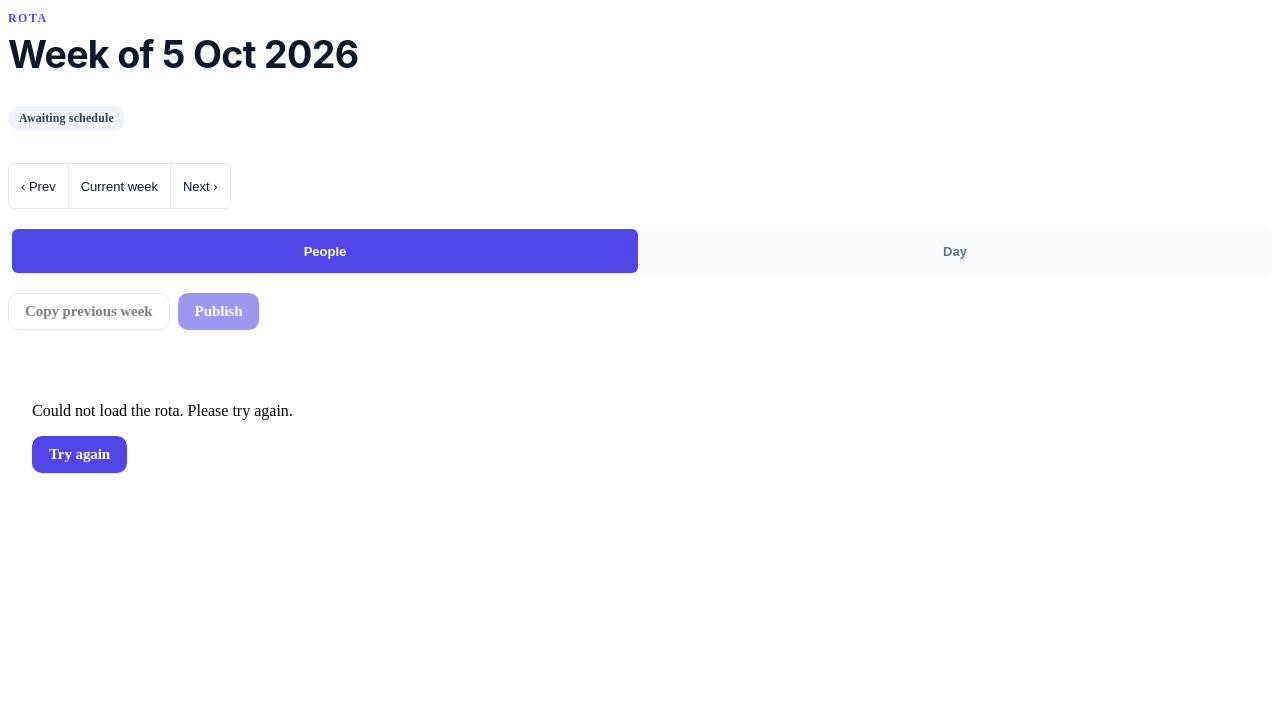
Test: shows retry instead of partial/empty data when query 0 fails
Expected: the message "Could not load the rota. Please try again. Try again" is shown, x1=32 y1=402 x2=293 y2=473
Expected: the heading "Week of 5 Oct 2026" is shown, x1=8 y1=32 x2=358 y2=77
Click the button "Try again": (80, 455) x1=32 y1=436 x2=127 y2=473
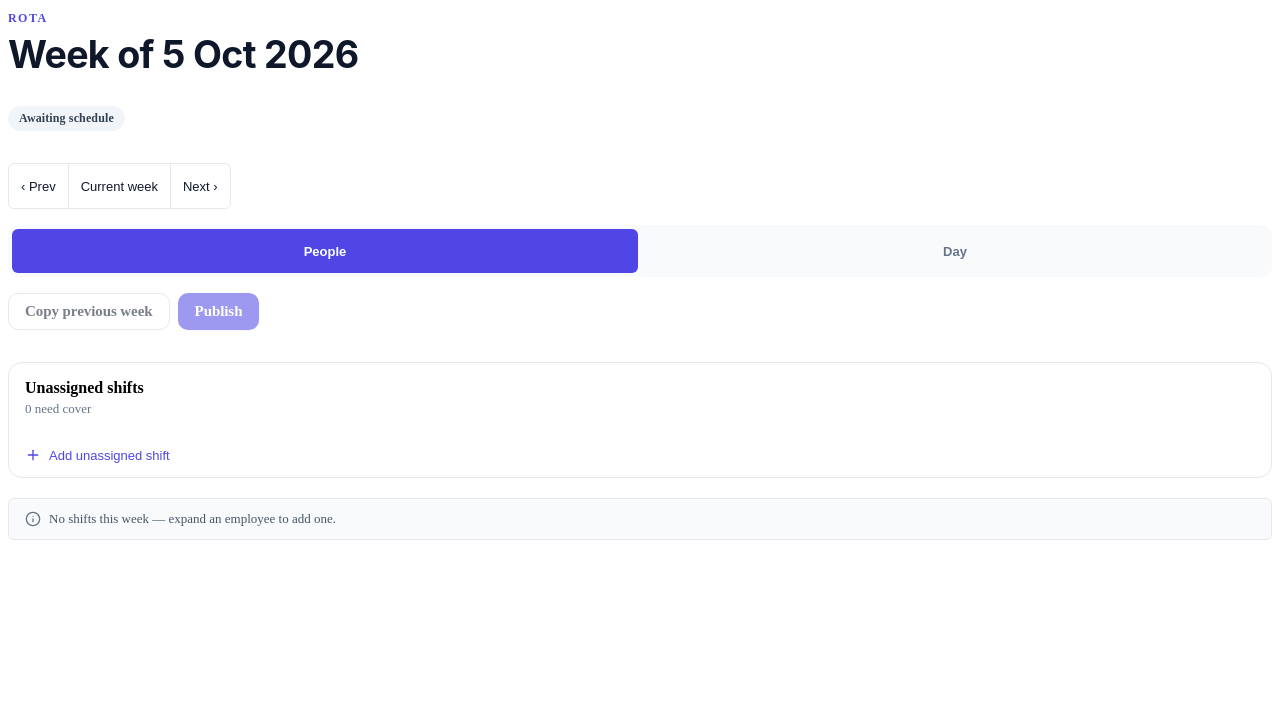
Expected: the heading "Week of 5 Oct 2026" is shown, x1=8 y1=32 x2=358 y2=77
Expected: the message "Could not load the rota. Please try again. Try again" is gone
